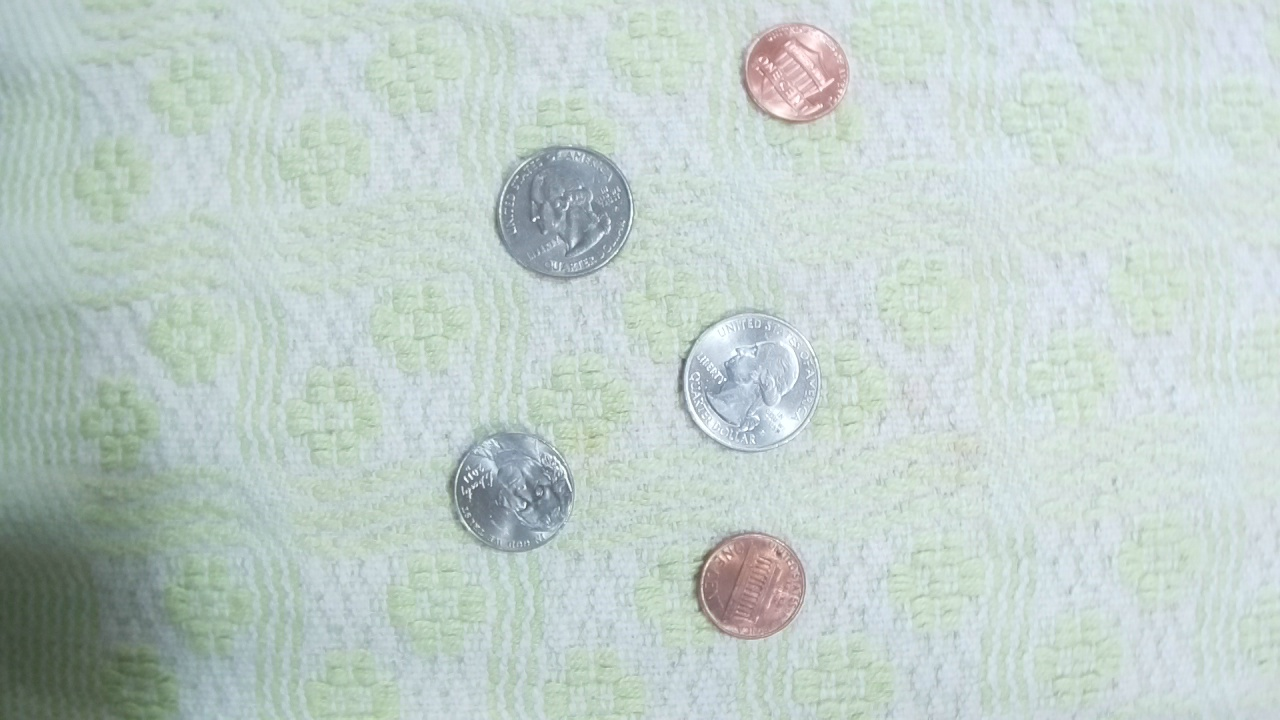nickel: (441, 427, 585, 557)
penny: (695, 528, 807, 644), (739, 18, 849, 126)
quarter: (678, 306, 822, 454), (496, 142, 634, 284)
